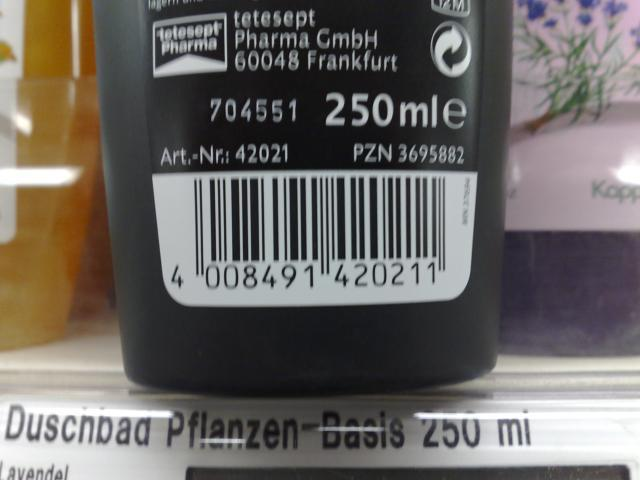Barkod: (192, 176, 444, 258)
